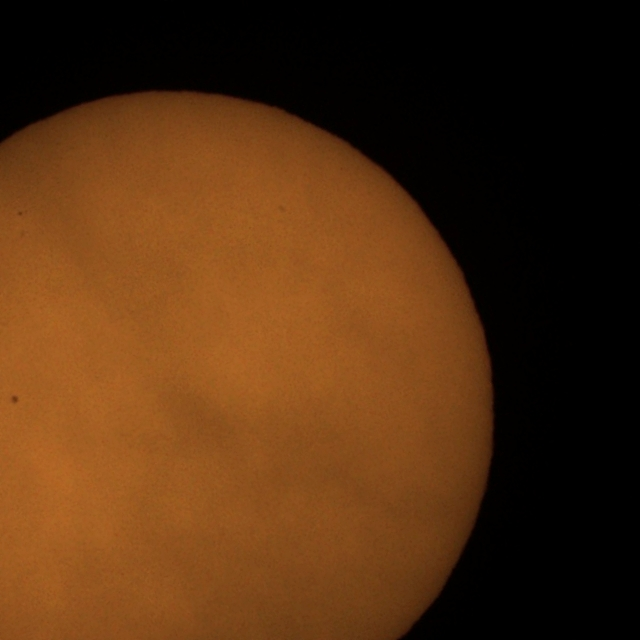sunspot: (10, 394, 20, 405), (16, 210, 24, 218)
